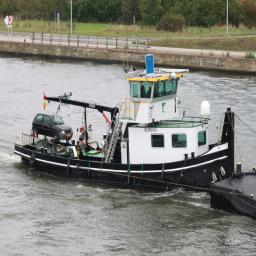tugboat: (13, 53, 237, 201)
